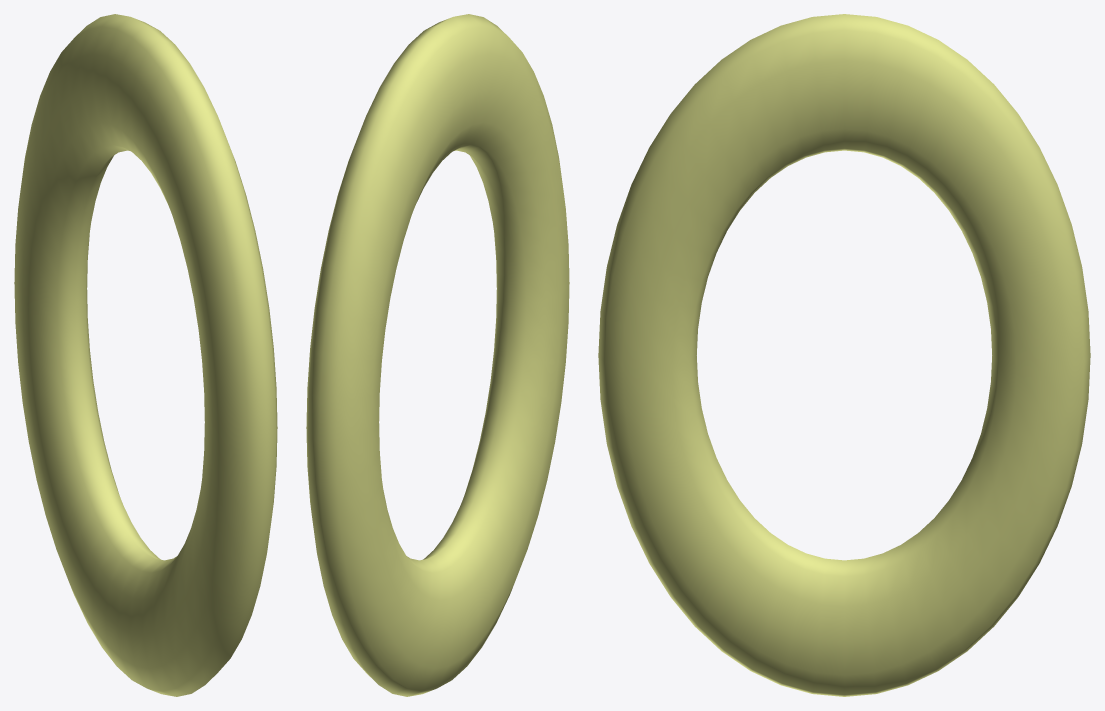
Rendered from door.fbx.
The picture shows the model from 3 angles, left to right: view 1: azimuth 30°, elevation 25°; view 2: azimuth 150°, elevation 25°; view 3: azimuth 270°, elevation 25°; orthographic projection. The views are drawn at different scales.
Parts seen in each view (by area): view 1: Torus; view 2: Torus; view 3: Torus.
Part boxes in pixels (x1,y1,x2,y2): Torus: (14, 14, 277, 696); Torus: (306, 14, 569, 696); Torus: (598, 14, 1090, 696).
Bounding box in the file's own units: 47.87 × 535 × 350.
